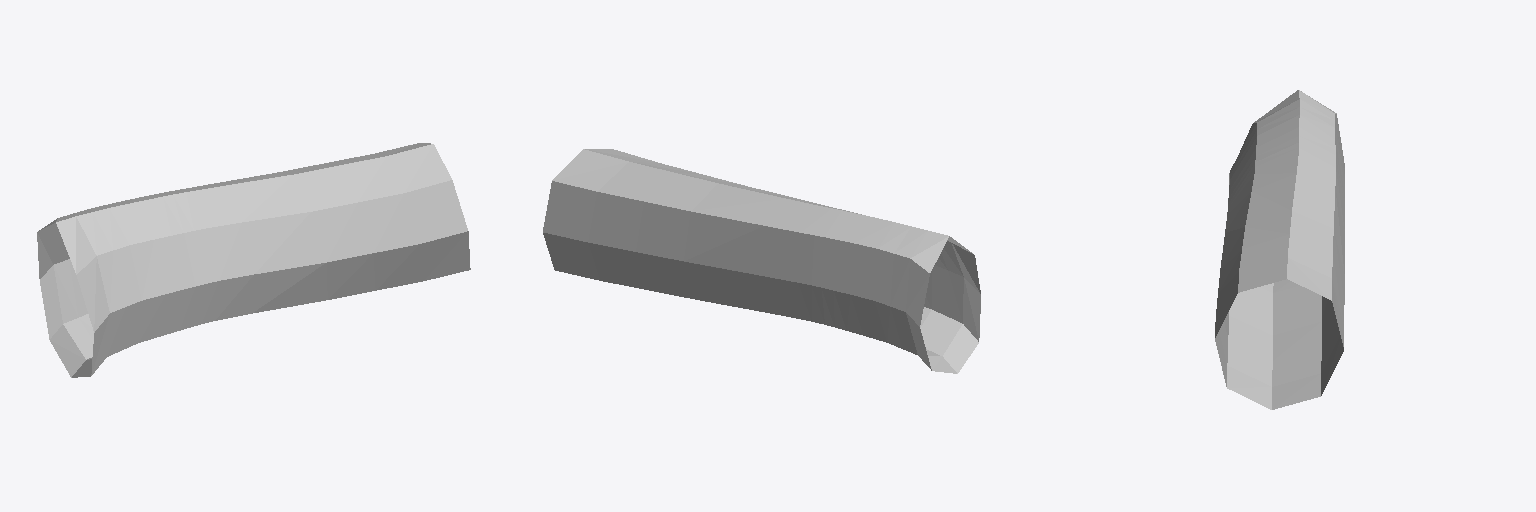
Rendered from left_arm.obj.
3 renders of one model, left to right at view 1: azimuth 30°, elevation 25°; view 2: azimuth 150°, elevation 25°; view 3: azimuth 270°, elevation 25°, orthographic.
Parts seen in each view (by area): view 1: Stickman_Cube.000_Stickman_Cube.012; view 2: Stickman_Cube.000_Stickman_Cube.012; view 3: Stickman_Cube.000_Stickman_Cube.012.
Boxes of the visible parts, x1,y1,x2,y2 form: Stickman_Cube.000_Stickman_Cube.012: [37, 143, 470, 377]; Stickman_Cube.000_Stickman_Cube.012: [543, 149, 980, 373]; Stickman_Cube.000_Stickman_Cube.012: [1215, 90, 1344, 409].
Bounding box in the file's own units: 1.31 × 0.4825 × 0.3836.